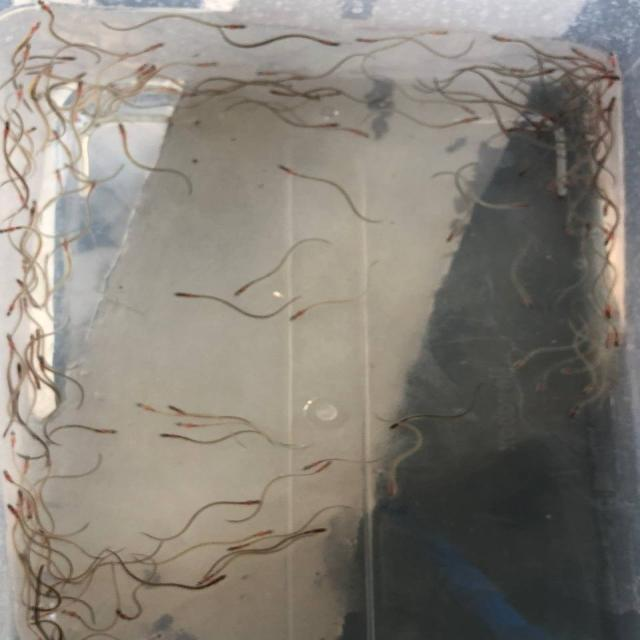glass_eel: (386, 412, 419, 433), (489, 31, 525, 50), (568, 398, 595, 422), (210, 19, 250, 34), (0, 293, 23, 318), (109, 606, 144, 622), (135, 62, 162, 82), (231, 276, 258, 296), (171, 287, 202, 304), (345, 33, 385, 46), (516, 293, 542, 313), (32, 326, 52, 352), (300, 459, 328, 477), (4, 428, 25, 452), (57, 235, 78, 259), (314, 32, 344, 48), (1, 332, 25, 352), (16, 454, 36, 478), (540, 174, 562, 195), (23, 201, 44, 223), (55, 609, 88, 623), (32, 354, 52, 377), (18, 39, 37, 63), (508, 353, 533, 371), (90, 422, 120, 437), (529, 69, 561, 83), (276, 164, 304, 180), (534, 376, 554, 398), (23, 20, 47, 38), (204, 572, 228, 590), (48, 128, 66, 152), (164, 420, 203, 431), (132, 400, 162, 414), (611, 332, 630, 354), (558, 221, 580, 240), (125, 61, 151, 77), (450, 115, 482, 128), (574, 381, 600, 397), (304, 523, 330, 539), (252, 68, 283, 81), (602, 52, 622, 72), (114, 118, 130, 143), (82, 180, 102, 200), (13, 276, 33, 296), (142, 40, 170, 54), (348, 128, 376, 142), (183, 61, 226, 70), (427, 27, 459, 39), (443, 224, 462, 244), (601, 332, 620, 352), (11, 487, 30, 507), (600, 302, 618, 323), (580, 223, 598, 244), (0, 120, 15, 145), (233, 497, 264, 509), (316, 460, 339, 476), (195, 574, 218, 590), (566, 46, 594, 59), (0, 223, 26, 237), (598, 228, 618, 246), (285, 309, 310, 323), (47, 51, 76, 63), (38, 0, 56, 19), (37, 527, 54, 547), (389, 472, 402, 498), (160, 429, 184, 443), (250, 528, 278, 540), (593, 73, 623, 84), (510, 199, 533, 213), (225, 542, 256, 552), (73, 82, 91, 99), (518, 164, 536, 181), (50, 170, 68, 187), (5, 502, 24, 518), (25, 502, 41, 521), (165, 402, 189, 414), (65, 71, 85, 85), (0, 469, 17, 485), (11, 365, 27, 382), (556, 367, 583, 377), (317, 120, 342, 130), (599, 200, 611, 218)
